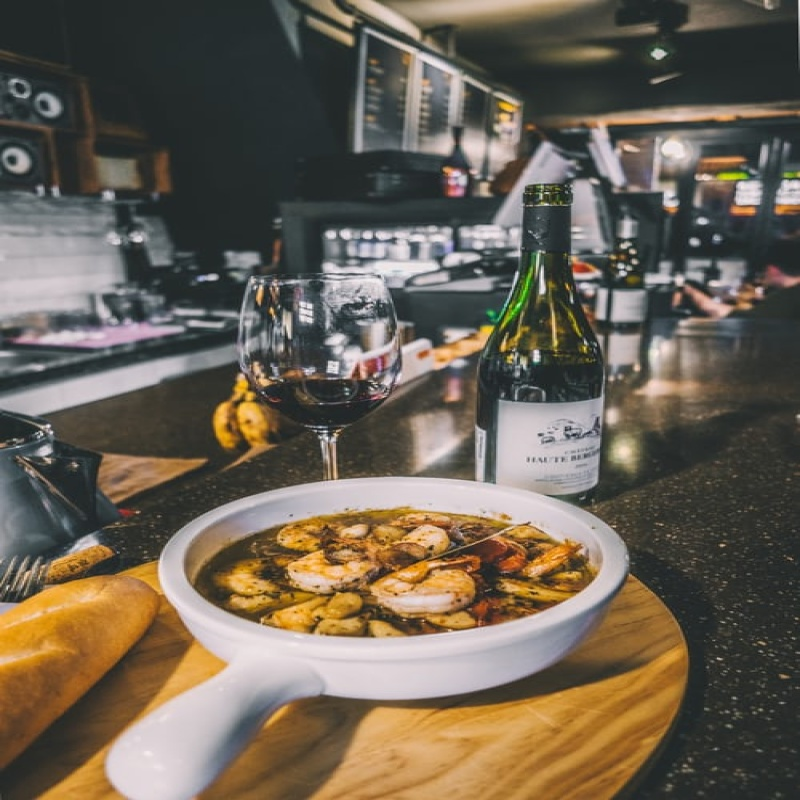wine: (480, 174, 606, 504)
